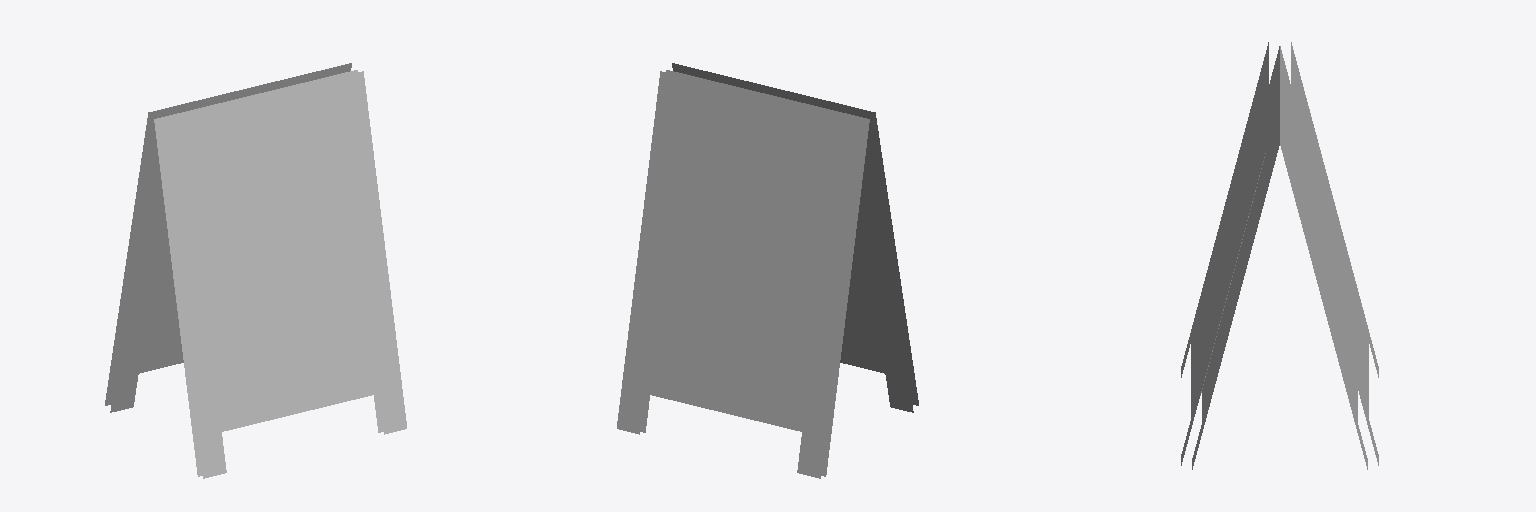
Rendered from Sign_LOD1.obj.
3 renders of one model, left to right at view 1: azimuth 30°, elevation 25°; view 2: azimuth 150°, elevation 25°; view 3: azimuth 270°, elevation 25°, orthographic.
Visible parts, largest first — view 1: Sign_LOD1 Sign; view 2: Sign_LOD1 Sign; view 3: Sign_LOD1 Sign.
Boxes of the visible parts, <box> form: Sign_LOD1 Sign: <box>105,63,406,478</box>; Sign_LOD1 Sign: <box>617,63,918,478</box>; Sign_LOD1 Sign: <box>1181,42,1378,469</box>.
Size of the model in its own units: 79.33 by 122 by 66.64.